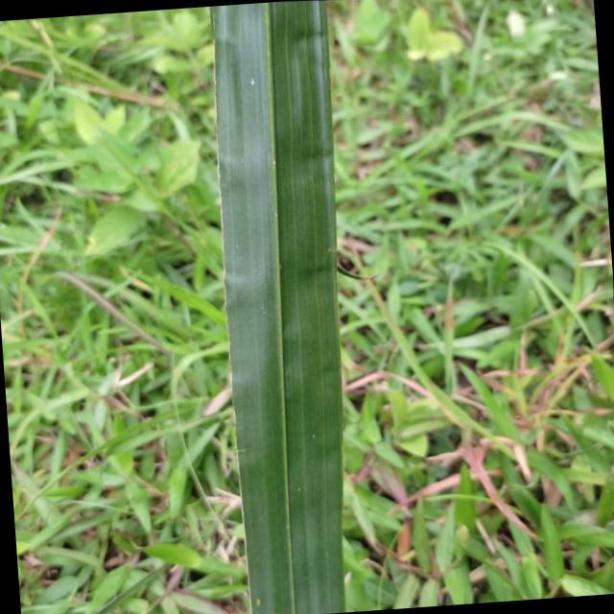Boron: (206, 0, 347, 614)
